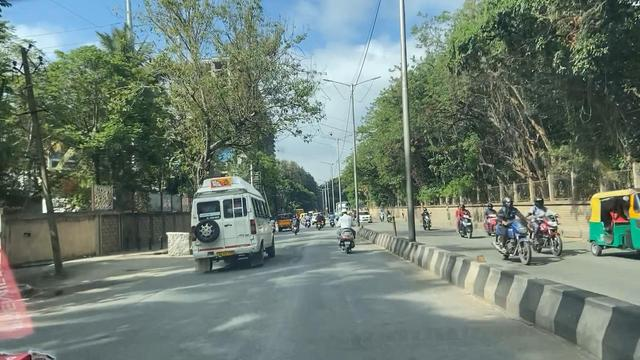HMV: (191, 167, 274, 265)
LMV: (335, 204, 362, 255)
